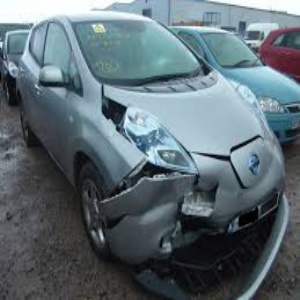bumper: (103, 166, 233, 263)
